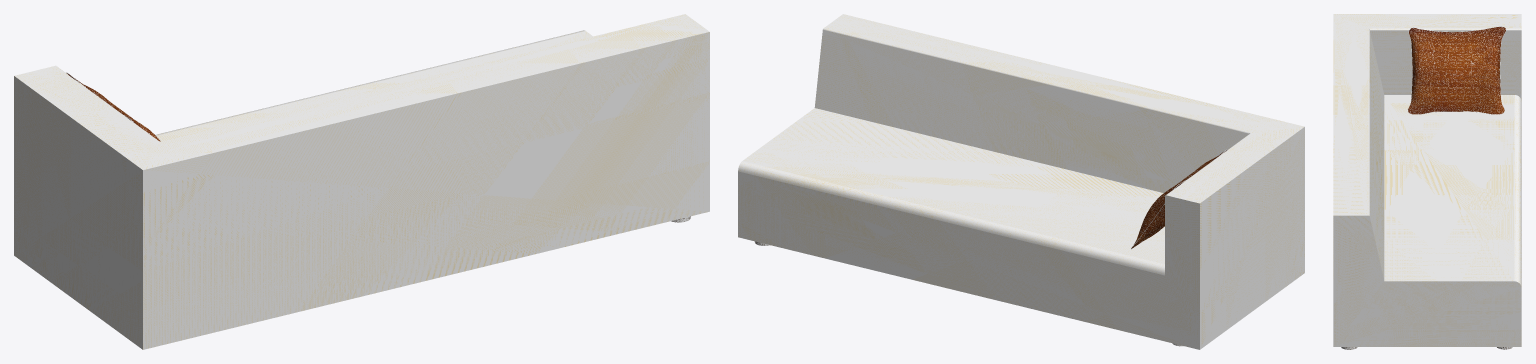
The picture shows the model from 3 angles, left to right: view 1: azimuth 30°, elevation 25°; view 2: azimuth 150°, elevation 25°; view 3: azimuth 270°, elevation 25°; orthographic projection. The views are drawn at different scales.
Parts seen in each view (by area): view 1: mesh7_mesh7-geometry; view 2: mesh7_mesh7-geometry, mesh1_mesh1-geometry; view 3: mesh7_mesh7-geometry, mesh1_mesh1-geometry, mesh2_mesh2-geometry.
Part boxes in pixels (<box>): mesh7_mesh7-geometry: <box>14,14,709,349</box>; mesh7_mesh7-geometry: <box>738,14,1304,349</box>; mesh1_mesh1-geometry: <box>1131,150,1226,248</box>; mesh7_mesh7-geometry: <box>1333,14,1521,349</box>; mesh1_mesh1-geometry: <box>1408,27,1505,114</box>; mesh2_mesh2-geometry: <box>1407,26,1506,114</box>.
Bounding box in the file's own units: 0.8911 × 0.2875 × 0.351.
